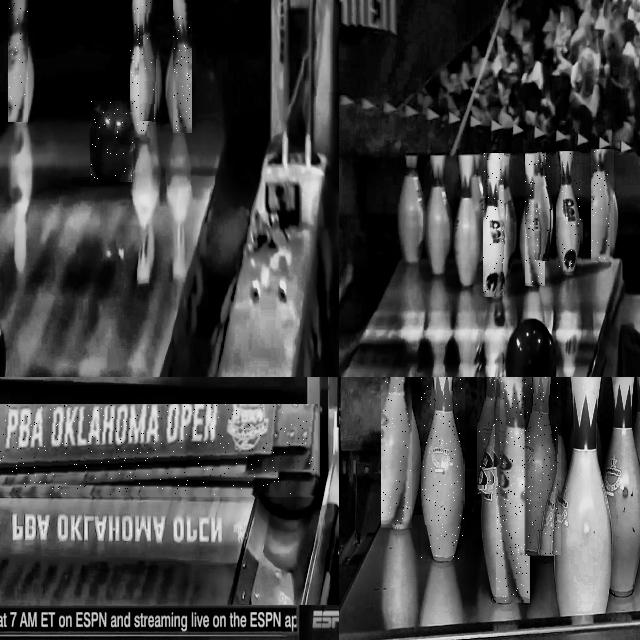bowling-ball: (91, 101, 134, 181), (506, 318, 557, 377)
bowling-pins: (554, 377, 612, 616), (603, 377, 640, 596), (421, 377, 464, 561), (497, 377, 528, 602), (526, 377, 559, 554), (382, 377, 412, 526), (454, 154, 480, 286), (426, 154, 452, 274), (398, 155, 425, 263), (557, 152, 581, 273), (484, 153, 504, 294), (131, 0, 151, 137), (8, 0, 28, 122), (525, 153, 542, 285), (592, 149, 612, 260), (174, 0, 190, 133), (477, 377, 496, 486), (471, 154, 489, 261), (500, 154, 516, 260), (537, 152, 552, 260), (145, 0, 158, 120)
sweep board: (0, 405, 317, 473)
